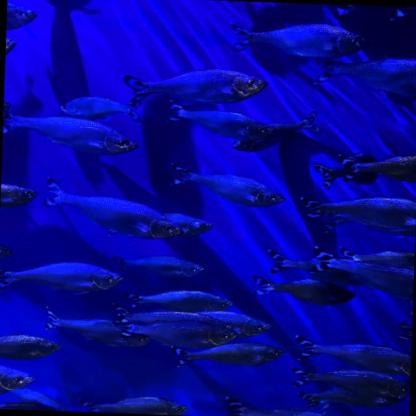fish: (42, 175, 186, 242), (118, 64, 268, 112), (2, 107, 140, 158), (224, 19, 372, 64), (310, 244, 414, 300), (109, 301, 244, 344), (165, 161, 285, 209), (290, 190, 416, 231), (162, 99, 272, 144), (292, 334, 412, 375), (42, 305, 152, 349), (0, 258, 124, 297), (312, 54, 416, 98), (287, 366, 410, 400), (233, 107, 318, 156), (116, 315, 238, 349), (169, 339, 285, 372), (250, 273, 354, 309), (120, 287, 235, 312), (334, 152, 415, 186), (190, 306, 273, 339), (112, 254, 206, 283), (76, 393, 190, 415), (60, 93, 142, 123), (224, 398, 336, 415), (0, 333, 62, 363), (336, 247, 414, 270), (156, 211, 213, 241), (263, 248, 319, 274), (0, 363, 36, 397), (0, 182, 38, 213), (309, 162, 343, 192), (6, 2, 40, 32), (5, 37, 17, 58)
